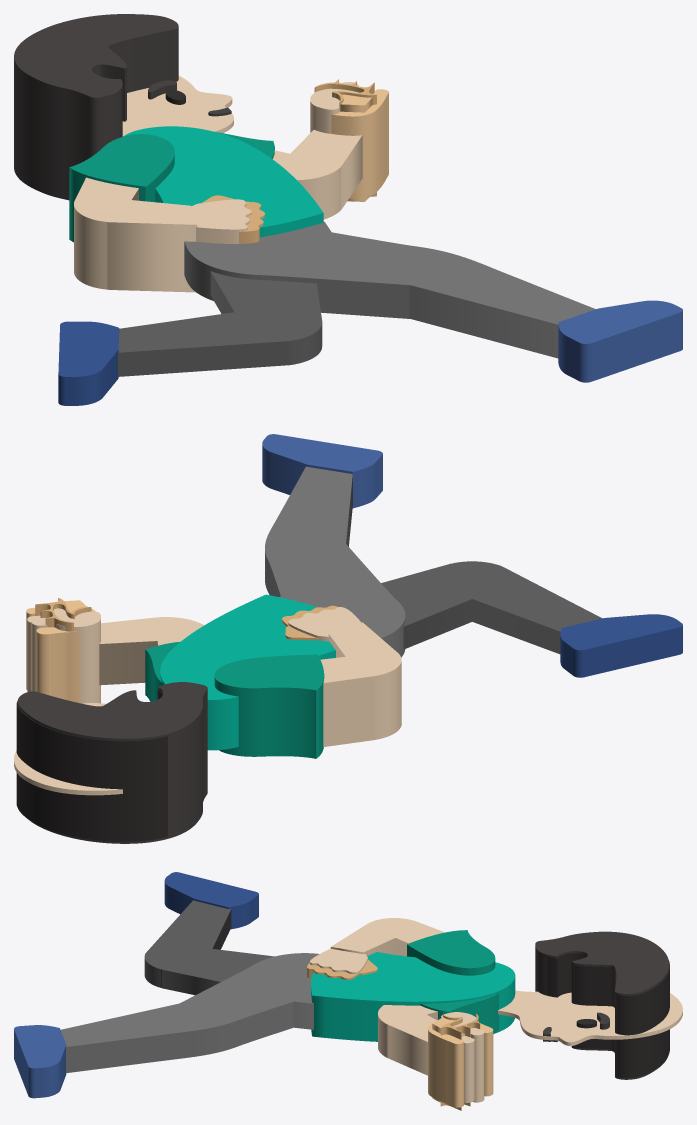
Rendered from emoji_u1f3c3_1f3fb_200d_2642_200d_27a1.glb.
The picture shows the model from 3 angles, top to bottom: view 1: azimuth 30°, elevation 25°; view 2: azimuth 150°, elevation 25°; view 3: azimuth 270°, elevation 25°; orthographic projection. The views are drawn at different scales.
Parts seen in each view (by area): view 1: emoji_u1f3c3_1f3fb_200d_2642_200d_27a1; view 2: emoji_u1f3c3_1f3fb_200d_2642_200d_27a1; view 3: emoji_u1f3c3_1f3fb_200d_2642_200d_27a1.
Boxes of the visible parts, x1=… form: emoji_u1f3c3_1f3fb_200d_2642_200d_27a1: x1=14, y1=14, x2=682, y2=405; emoji_u1f3c3_1f3fb_200d_2642_200d_27a1: x1=14, y1=434, x2=682, y2=843; emoji_u1f3c3_1f3fb_200d_2642_200d_27a1: x1=14, y1=872, x2=682, y2=1110.
Size of the model in its own units: 0.023 by 0.0046 by 0.0325.
